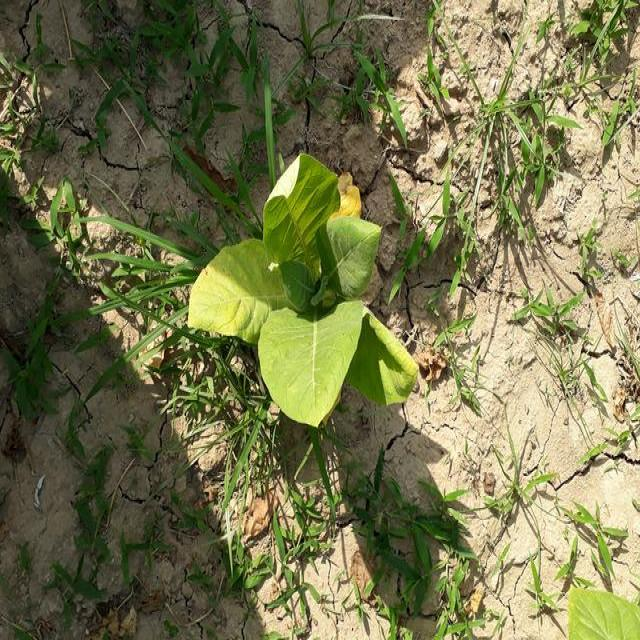crop: (200, 136, 424, 421), (563, 585, 640, 640)
